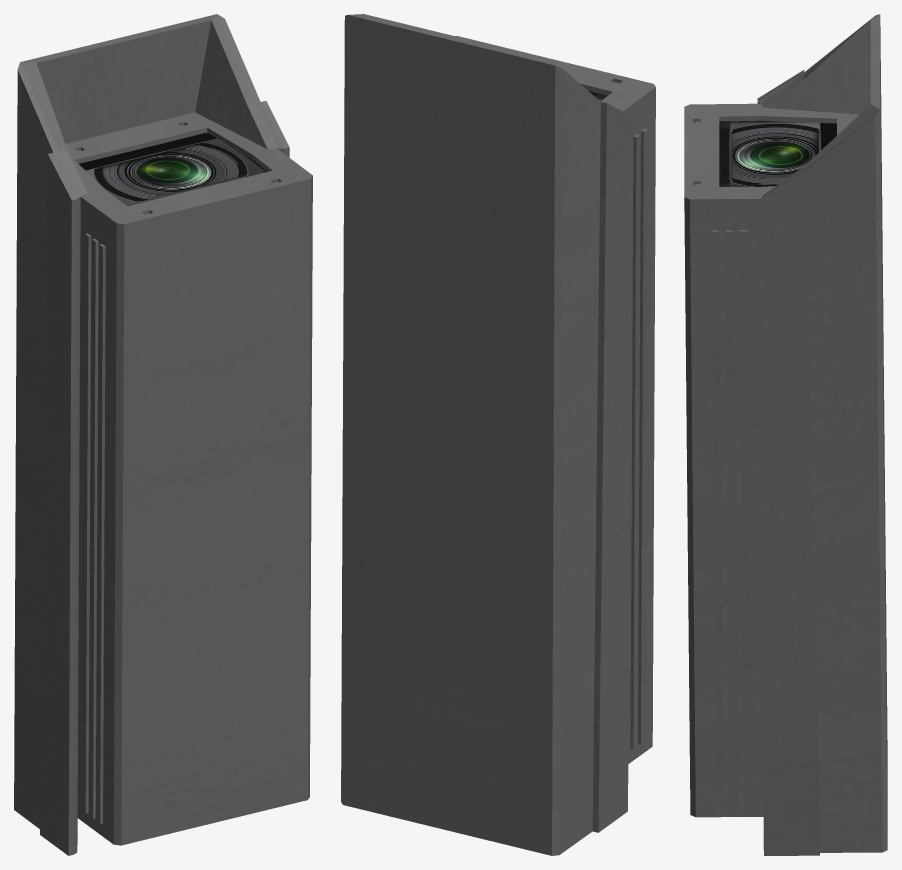
File: Camera.fbx
The picture shows the model from 3 angles, left to right: view 1: azimuth 30°, elevation 25°; view 2: azimuth 150°, elevation 25°; view 3: azimuth 270°, elevation 25°; orthographic projection. The views are drawn at different scales.
Parts seen in each view (by area): view 1: Body; view 2: Body; view 3: Body.
Boxes of the visible parts, left/top/right/bottom form: Body: left=14, top=14, right=312, bottom=855; Body: left=341, top=14, right=655, bottom=855; Body: left=684, top=14, right=887, bottom=855.
Bounding box in the file's own units: 17.35 × 56.75 × 14.1.
